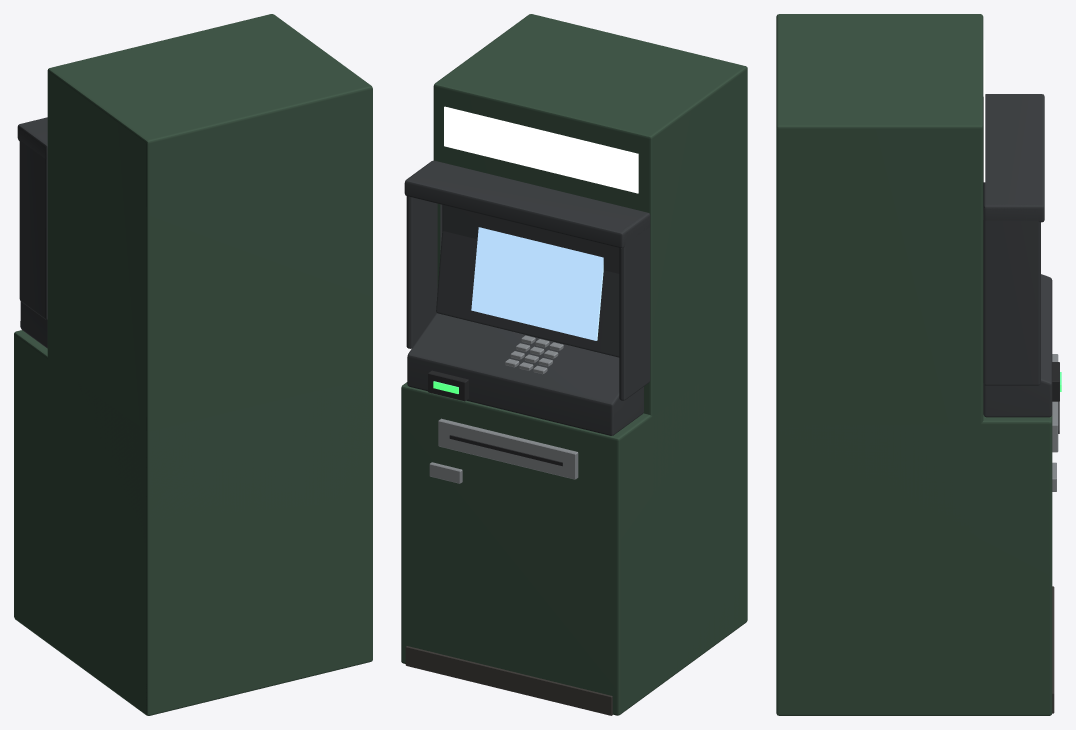
The model's file is prop_atm.glb.
3 views of the same model, side by side, from view 1: azimuth 30°, elevation 25°; view 2: azimuth 150°, elevation 25°; view 3: azimuth 270°, elevation 25° (orthographic). The views are drawn at different scales.
Visible parts, largest first — view 1: ATM; view 2: ATM; view 3: ATM.
Boxes of the visible parts, x1=… form: ATM: x1=14, y1=14, x2=372, y2=715; ATM: x1=401, y1=14, x2=747, y2=715; ATM: x1=776, y1=14, x2=1061, y2=715.
Size of what is drawn, in the model's own units: 0.7 by 1.7 by 0.744.
